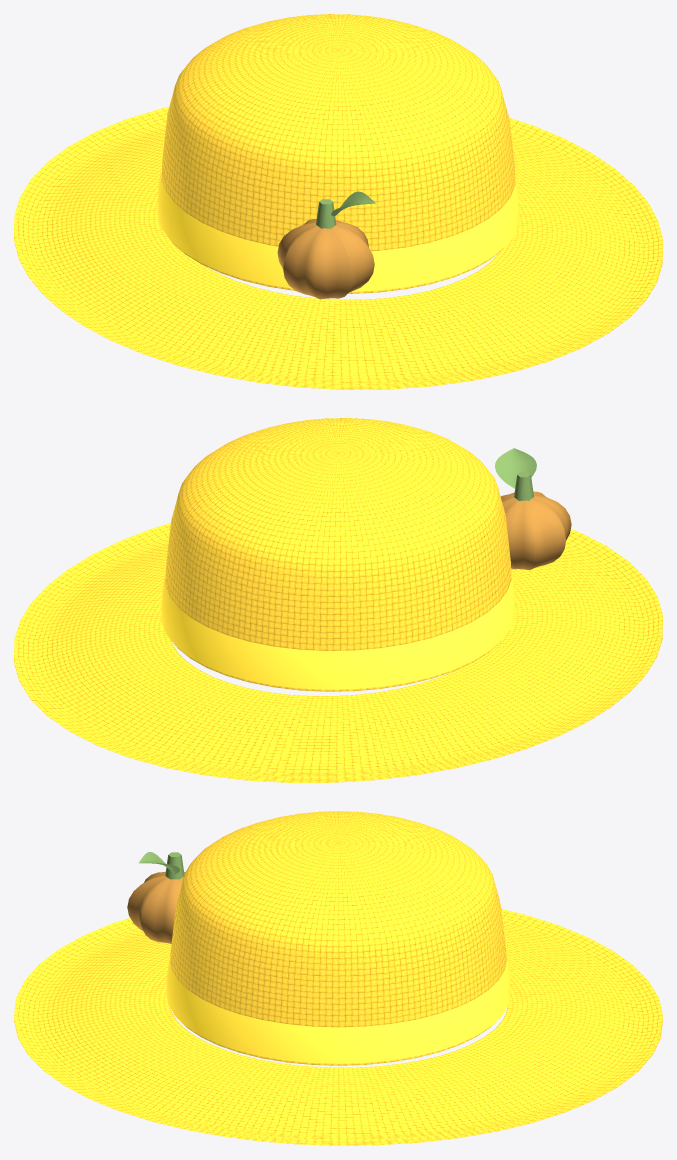
The model's file is hat3d_golden.cfe755b4.glb.
The picture shows the model from 3 angles, top to bottom: view 1: azimuth 30°, elevation 25°; view 2: azimuth 150°, elevation 25°; view 3: azimuth 270°, elevation 25°; orthographic projection. The views are drawn at different scales.
Visible parts, largest first — view 1: hat_golden; view 2: hat_golden; view 3: hat_golden.
Boxes of the visible parts, bbox=[...] form: hat_golden: bbox=[14, 14, 662, 389]; hat_golden: bbox=[14, 418, 662, 782]; hat_golden: bbox=[14, 811, 662, 1145].
Size of the model in its own units: 0.5484 by 0.186 by 0.6028.
Materials: 4 (1 with a texture image).
